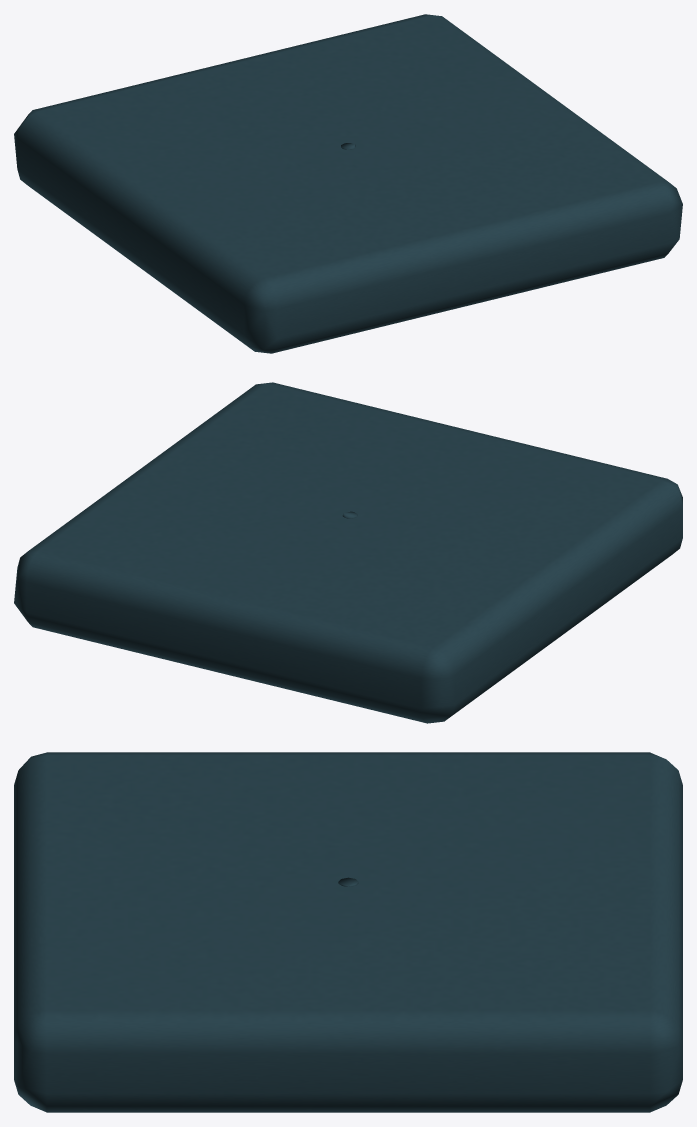
File: zabuton.gltf
3 renders of one model, top to bottom at view 1: azimuth 30°, elevation 25°; view 2: azimuth 150°, elevation 25°; view 3: azimuth 270°, elevation 25°, orthographic. The views are drawn at different scales.
Size of the model in its own units: 0.52 by 0.086 by 0.52.
Materials: 2 (2 with a texture image).
